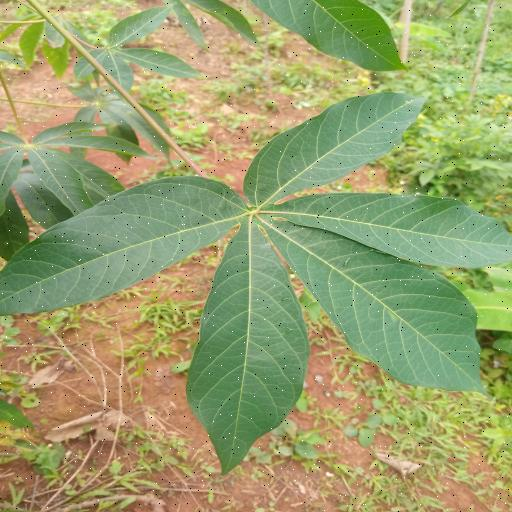Cassava_Healthy: (0, 92, 512, 476)
